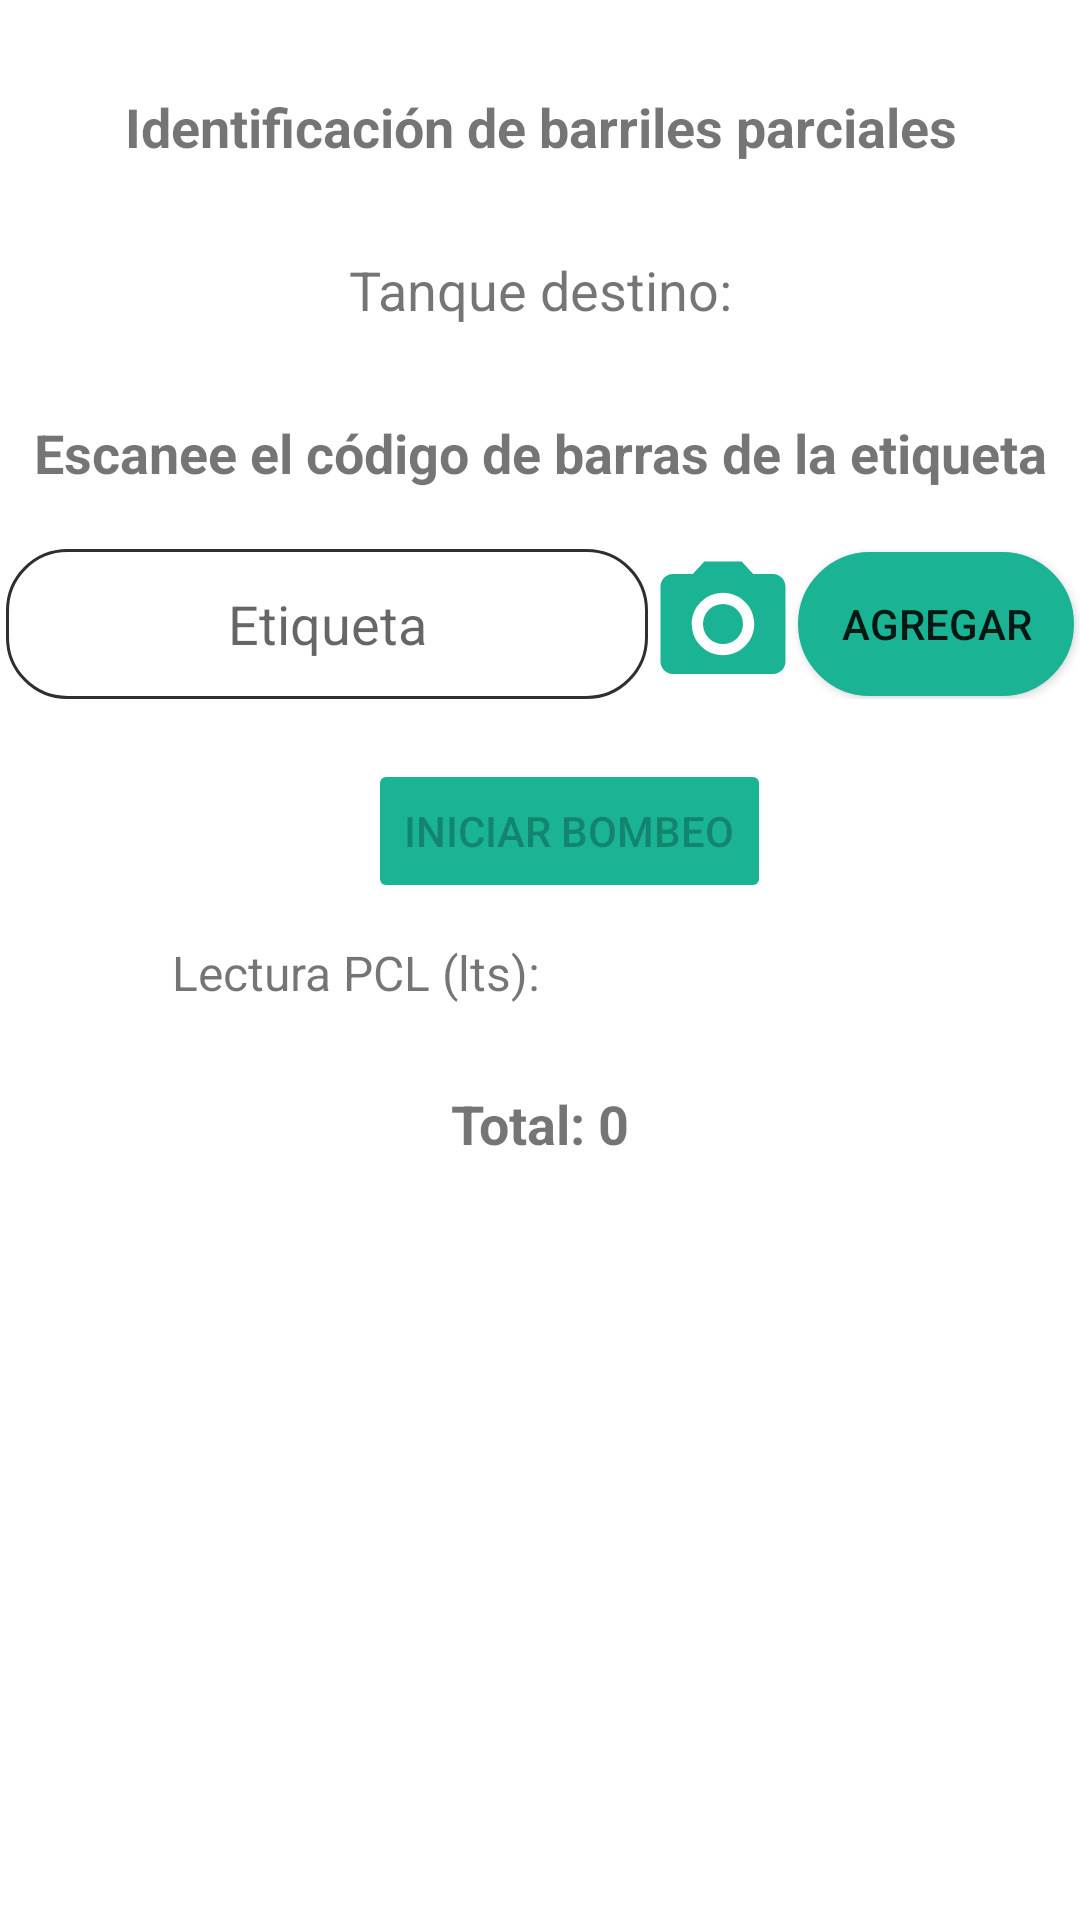

Icons on this 1080px×1920px Android screen, each with the point to tap as (x,y):
photo camera: (723,617)
